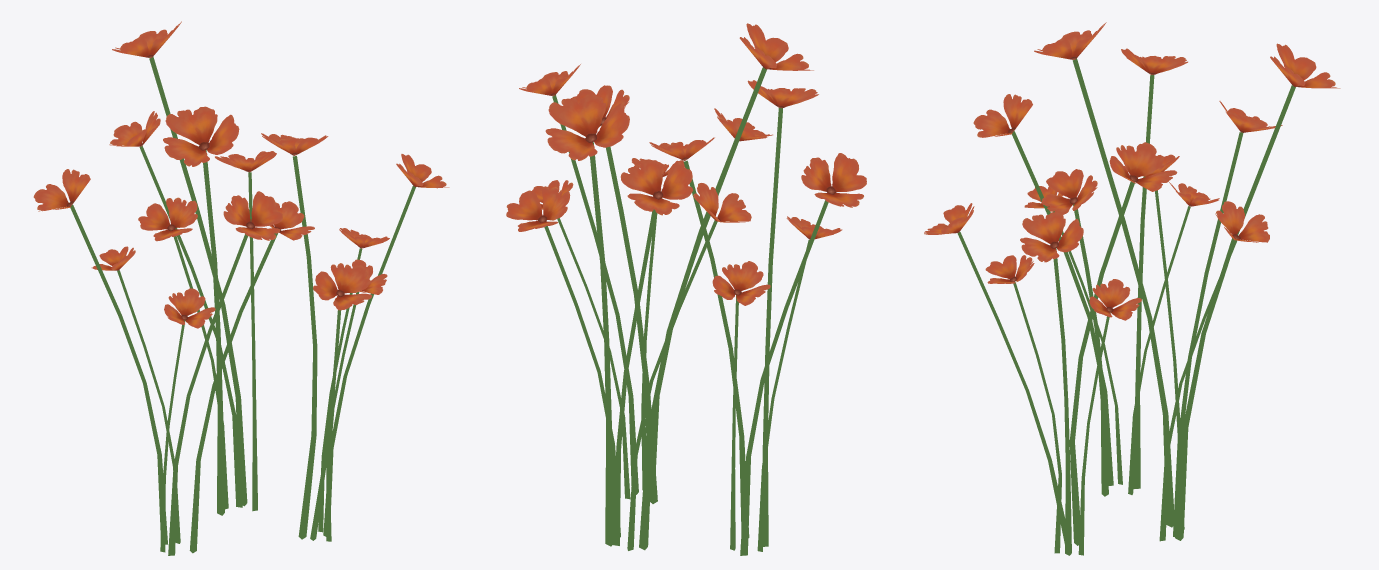
Rendered from MEADOW_SM_Flower_08_03.gltf.
3 views of the same model, side by side, from view 1: azimuth 30°, elevation 25°; view 2: azimuth 150°, elevation 25°; view 3: azimuth 270°, elevation 25° (orthographic). The views are drawn at different scales.
Visible parts, largest first — view 1: SM_Flower_08_03_LOD0; view 2: SM_Flower_08_03_LOD0; view 3: SM_Flower_08_03_LOD0.
Boxes of the visible parts, x1,y1,x2,y2 form: SM_Flower_08_03_LOD0: (33, 21, 449, 555); SM_Flower_08_03_LOD0: (506, 23, 866, 555); SM_Flower_08_03_LOD0: (924, 22, 1340, 555).
Bounding box in the file's own units: 0.5667 × 0.6502 × 0.5476.
1 material, 1 textured.
